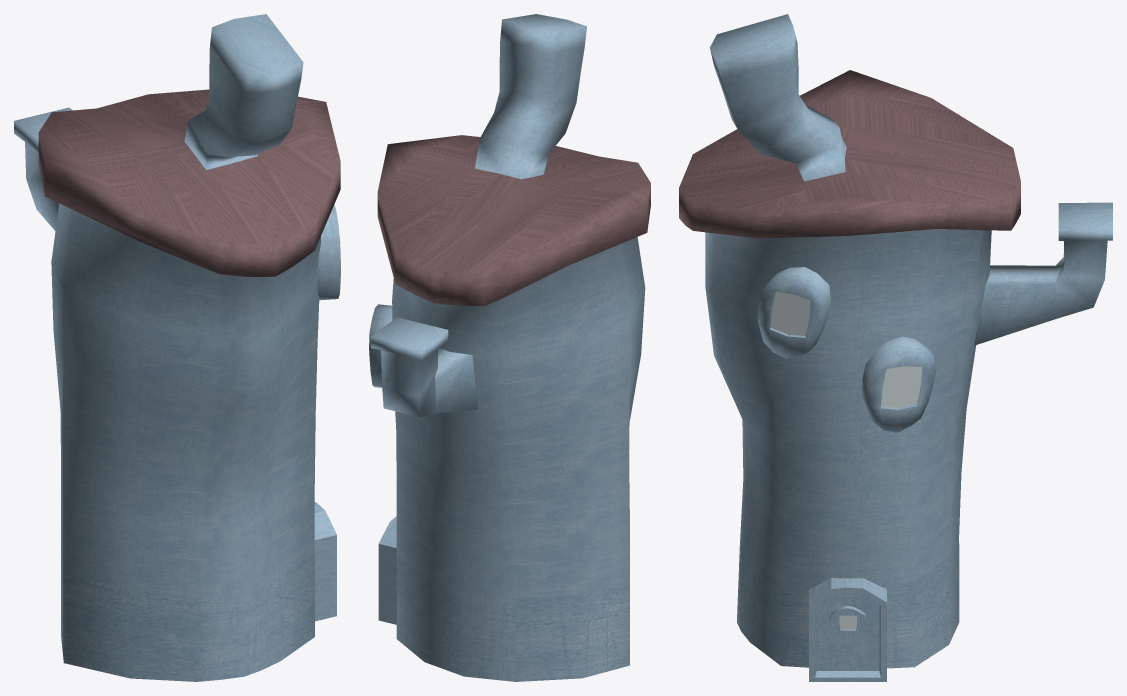
File: BGBuilding1.fbx
The picture shows the model from 3 angles, left to right: view 1: azimuth 30°, elevation 25°; view 2: azimuth 150°, elevation 25°; view 3: azimuth 270°, elevation 25°; orthographic projection. The views are drawn at different scales.
Parts seen in each view (by area): view 1: group8_pasted__pCube11; view 2: group8_pasted__pCube11; view 3: group8_pasted__pCube11.
Part boxes in pixels (x1,y1,x2,y2): group8_pasted__pCube11: (14,14,340,681); group8_pasted__pCube11: (369,14,650,681); group8_pasted__pCube11: (679,14,1112,681).
Bounding box in the file's own units: 4.48 × 9.63 × 6.25.
Materials: 4 (3 with a texture image).
